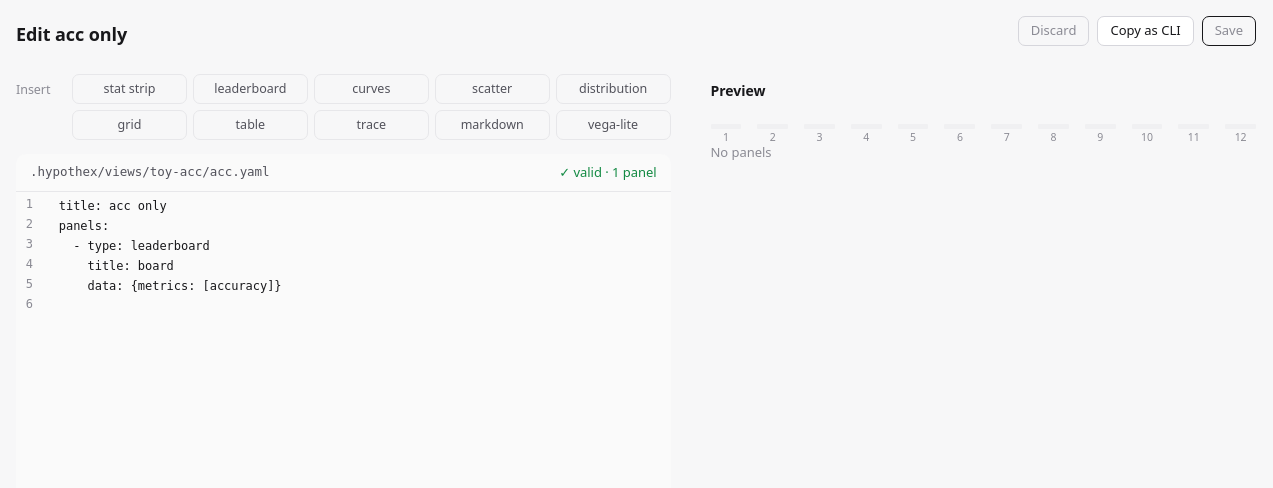
Test: ViewEditor › palette inserts at the cursor, validation is debounced, Save PUTs the text
The width and height of the screenshot is (1273, 488).
Click the button "stat strip".
click(129, 89)  # box [72, 74, 187, 104]
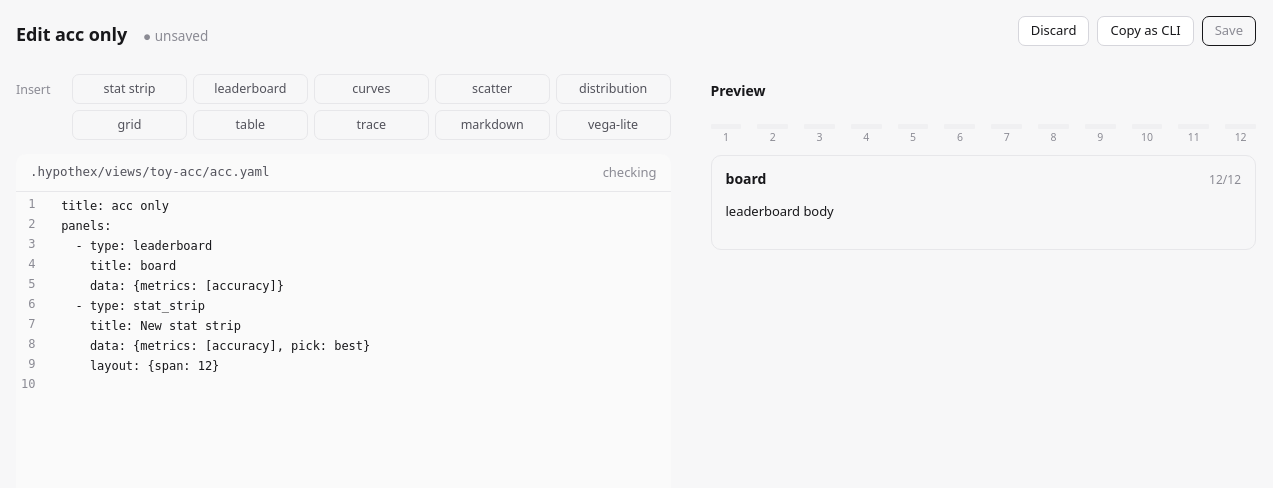
Click the button "table".
click(250, 125)  # box [193, 110, 308, 140]
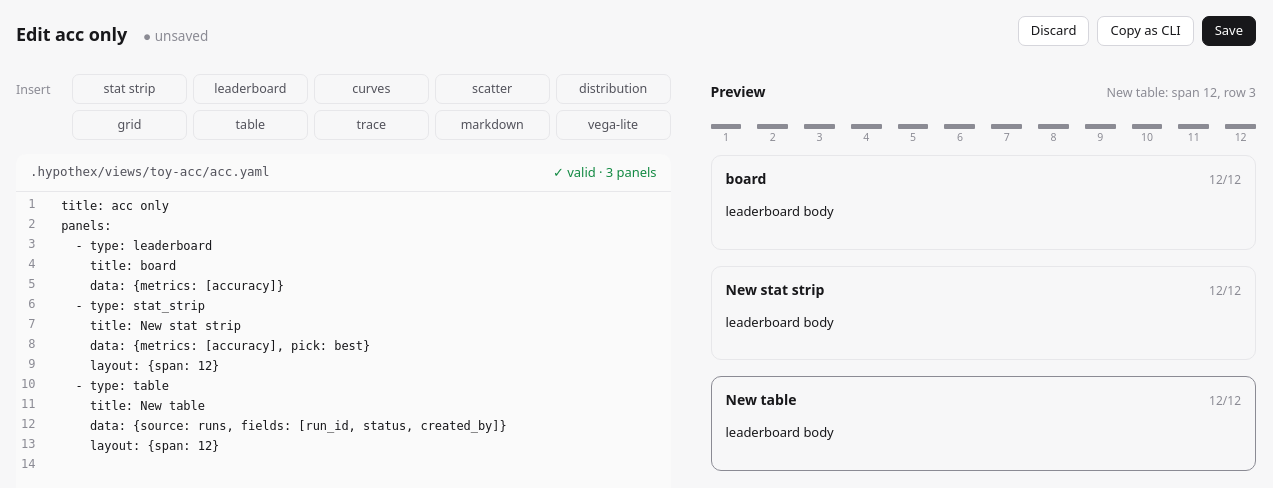
Expected: the text "● unsaved" is shown, [143, 30, 208, 43]
Expected: the element with test id "ed-status" shows "✓ valid · 3 panels", [553, 163, 657, 181]
Expected: the button "Save" is enabled
Click the button "Save".
click(1229, 31)  # box [1202, 16, 1256, 46]
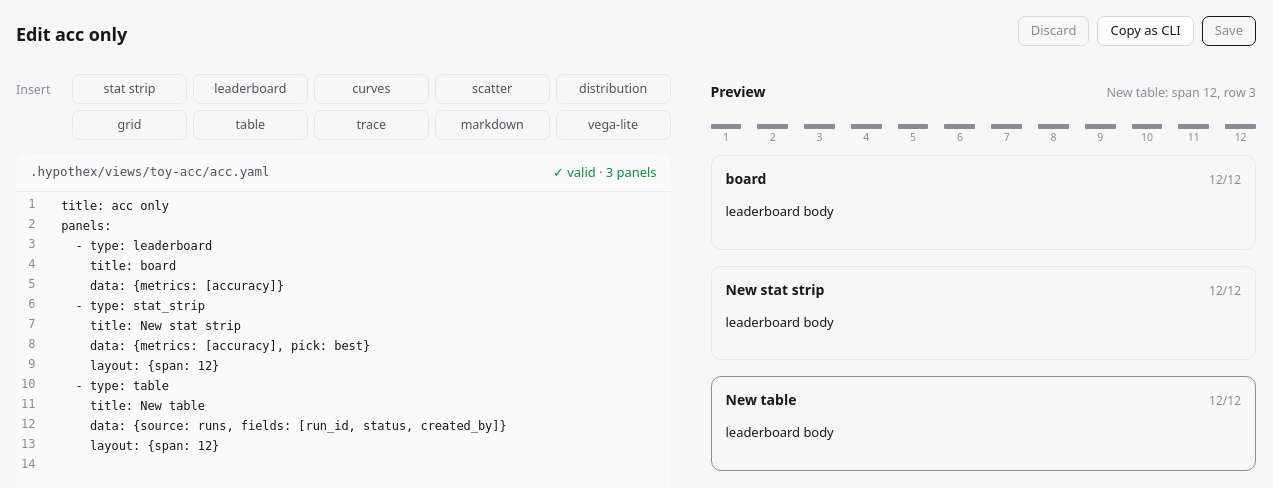
Expected: the text "● unsaved" is gone
Expected: the button "Save" is disabled, [1202, 16, 1256, 46]
